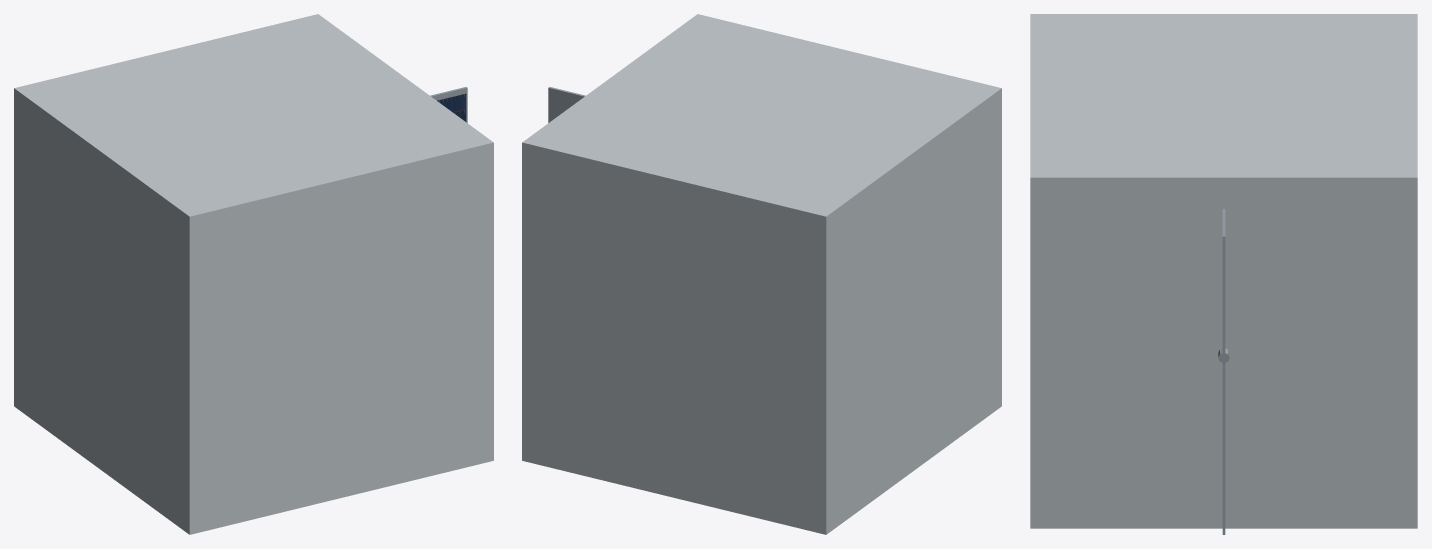
Rendered from ref-ds-eo-52935.glb.
3 renders of one model, left to right at view 1: azimuth 30°, elevation 25°; view 2: azimuth 150°, elevation 25°; view 3: azimuth 270°, elevation 25°, orthographic. The views are drawn at different scales.
Parts seen in each view (by area): view 1: Spacecraft body; view 2: Spacecraft body, Array frame; view 3: Spacecraft body, Array frame.
Part boxes in pixels (box(x1,y1,x2,y2)): Spacecraft body: box(14, 14, 493, 534); Spacecraft body: box(522, 14, 1001, 534); Array frame: box(548, 87, 585, 122); Spacecraft body: box(1030, 14, 1417, 528); Array frame: box(1222, 209, 1225, 534).
Size of the model in its own units: 2.4 by 2 by 2.
Materials: 3 (1 with a texture image).
